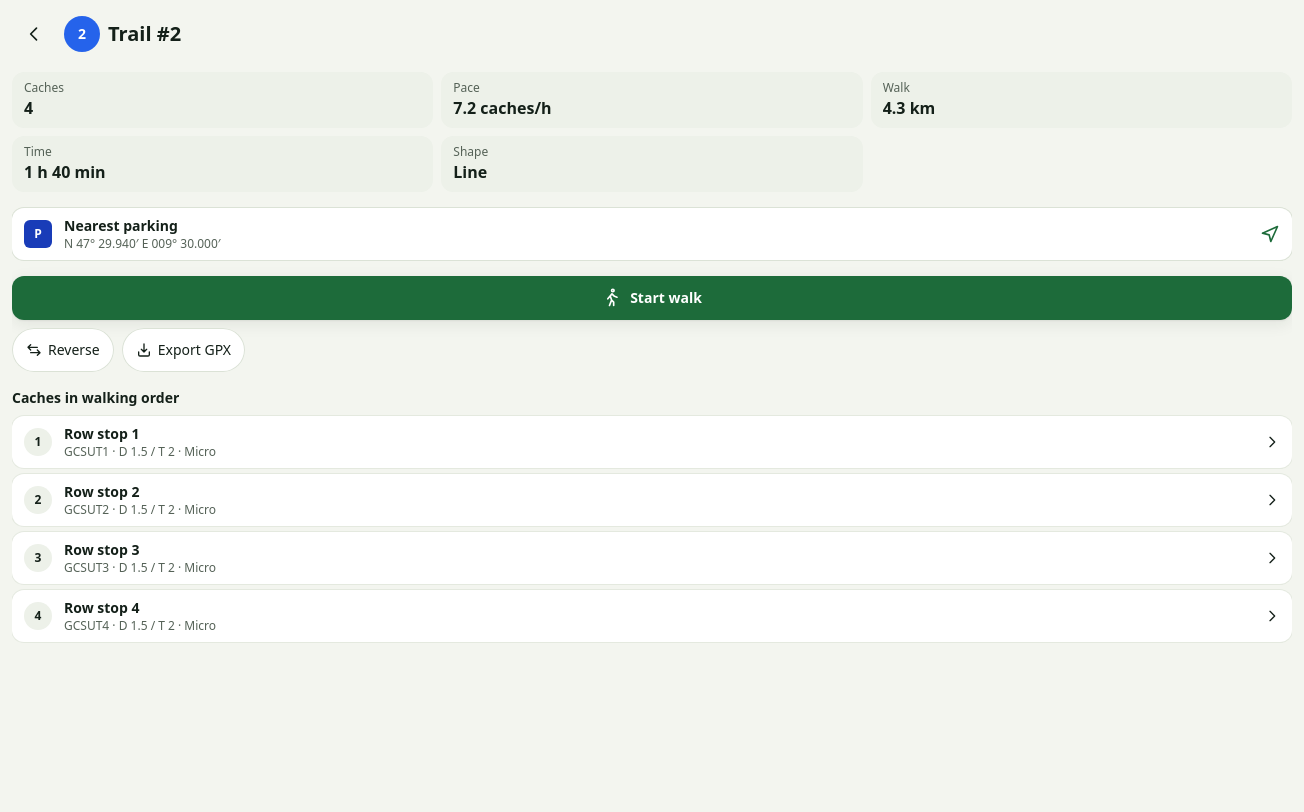
it: TrailDetail › exports the trail as GPX in the shown order and confirms
Click the button "Reverse": (63, 350) [12,328,114,372]
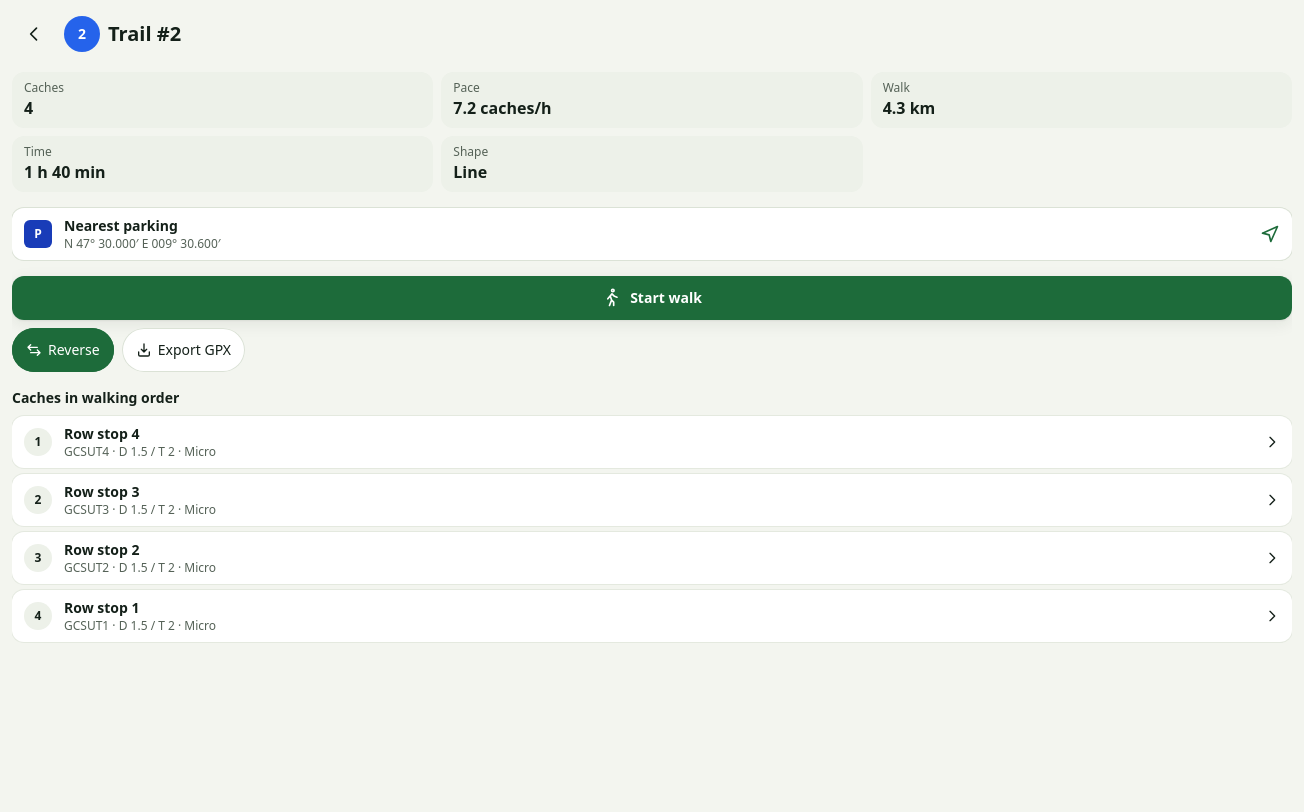
Click the button "Export GPX": (183, 350) [122,328,245,372]
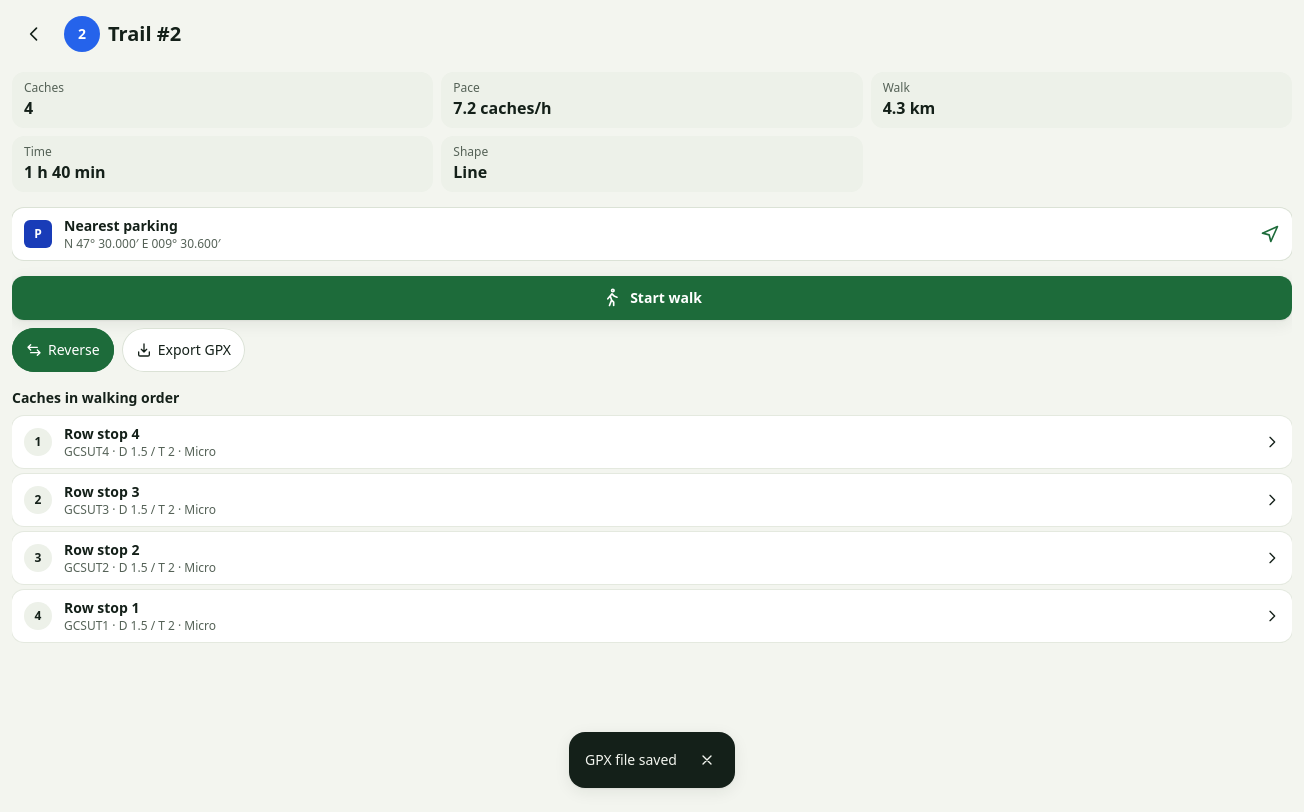
Now the element with test id "toast" reads "GPX file saved", box [585,750,677,769]
